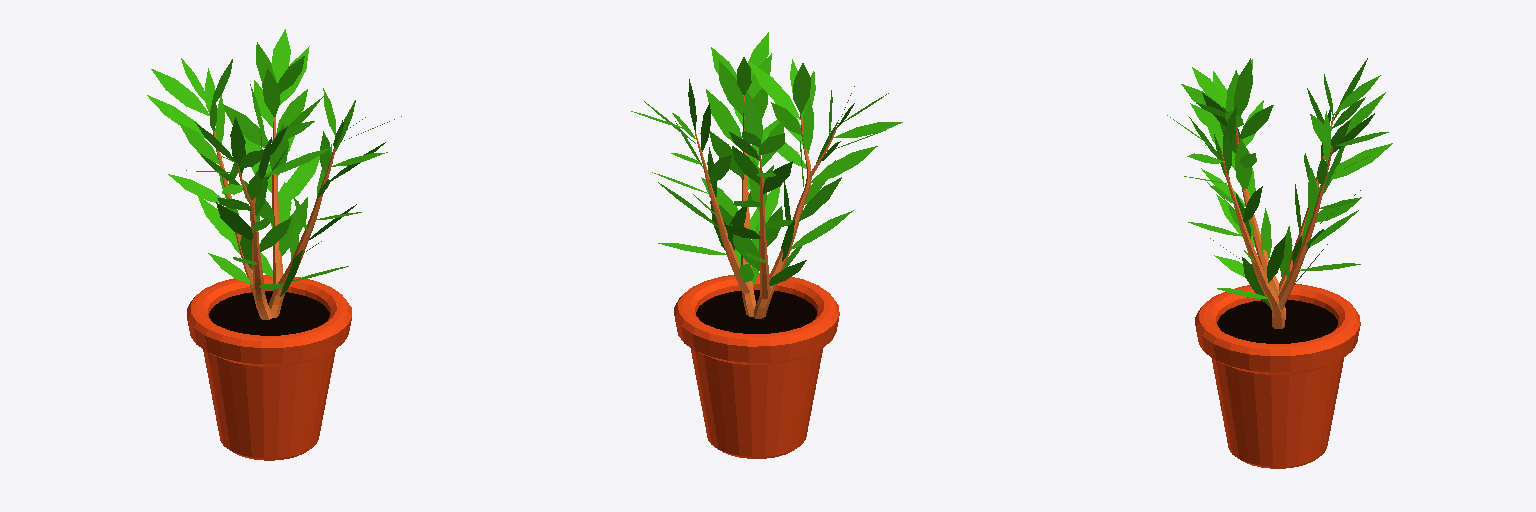
The model's file is green-kitchen7.obj.
3 renders of one model, left to right at view 1: azimuth 30°, elevation 25°; view 2: azimuth 150°, elevation 25°; view 3: azimuth 270°, elevation 25°, orthographic.
Parts seen in each view (by area): view 1: green_kitchen7:Plant; view 2: green_kitchen7:Plant; view 3: green_kitchen7:Plant.
Part boxes in pixels (bbox=[...]): green_kitchen7:Plant: bbox=[147, 29, 401, 460]; green_kitchen7:Plant: bbox=[631, 32, 902, 458]; green_kitchen7:Plant: bbox=[1167, 58, 1392, 468].
Size of the model in its own units: 81.77 by 142 by 77.89.